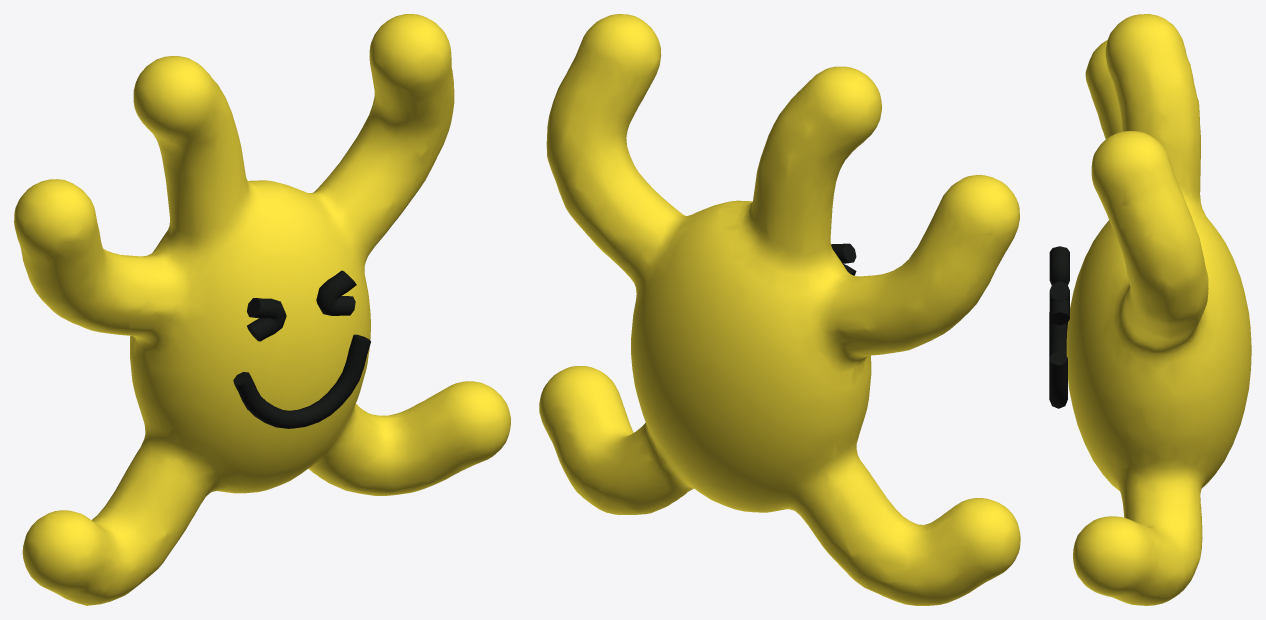
File: 01_joy.glb
The picture shows the model from 3 angles, left to right: view 1: azimuth 30°, elevation 25°; view 2: azimuth 150°, elevation 25°; view 3: azimuth 270°, elevation 25°; orthographic projection. The views are drawn at different scales.
Parts seen in each view (by area): view 1: 01_joy_sculpt, 01_joy_expression; view 2: 01_joy_sculpt; view 3: 01_joy_sculpt, 01_joy_expression.
Boxes of the visible parts, x1,y1,x2,y2 form: 01_joy_sculpt: (14,14,510,605); 01_joy_expression: (233,270,370,428); 01_joy_sculpt: (539,14,1020,605); 01_joy_sculpt: (1066,14,1251,605); 01_joy_expression: (1049,246,1069,408).
Size of the model in its own units: 2.3 by 2.38 by 0.8669.
